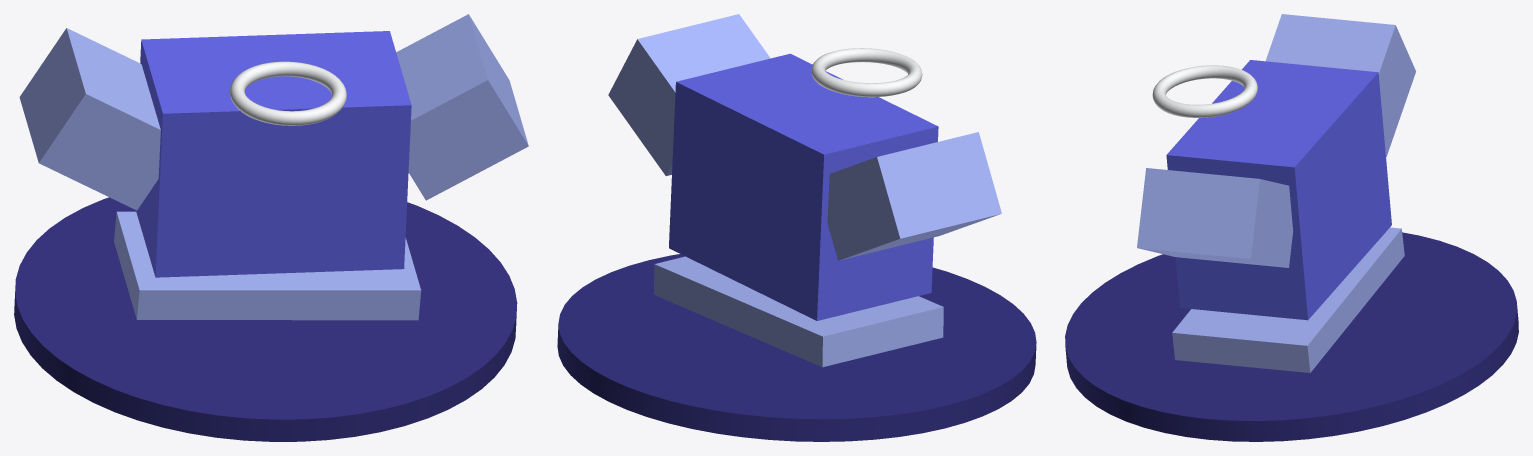
File: Clothes.glb
The picture shows the model from 3 angles, left to right: view 1: azimuth 30°, elevation 25°; view 2: azimuth 150°, elevation 25°; view 3: azimuth 270°, elevation 25°; orthographic projection. The views are drawn at different scales.
Size of the model in its own units: 2.4 by 1.57 by 2.36.
